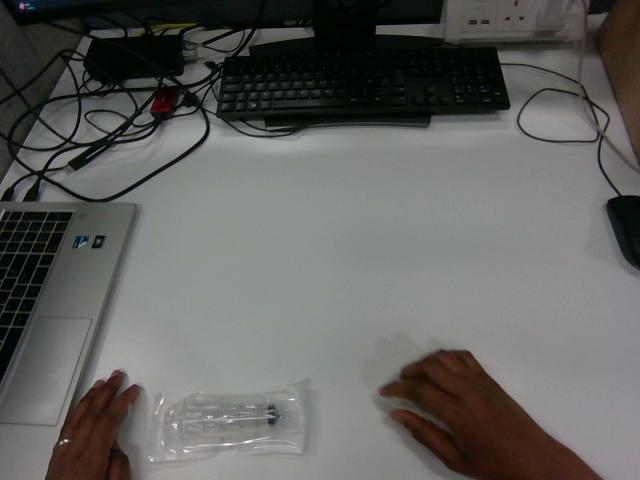syringe: (147, 386, 306, 461)
